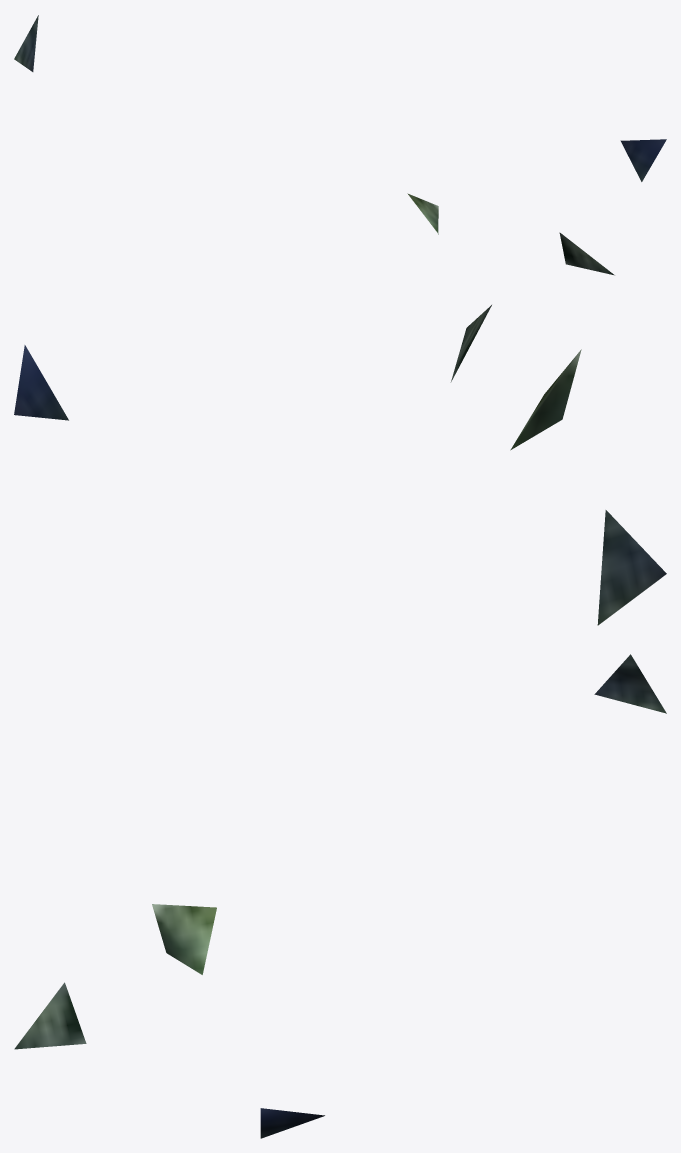
3 views of the same model, one above another, from view 1: azimuth 30°, elevation 25°; view 2: azimuth 150°, elevation 25°; view 3: azimuth 270°, elevation 25° (orthographic). The views are drawn at different scales.
Visible parts, largest first — view 1: 30436272704361526612_1; view 2: 30436272704361526612_1; view 3: 30436272704361526612_1.
Part boxes in pixels (x1,y1,x2,y2): 30436272704361526612_1: [14, 15, 666, 275]; 30436272704361526612_1: [14, 305, 666, 625]; 30436272704361526612_1: [14, 654, 666, 1138].
Bounding box in the file's own units: 15.19 × 4.93 × 13.88.
Materials: 1 (1 with a texture image).
